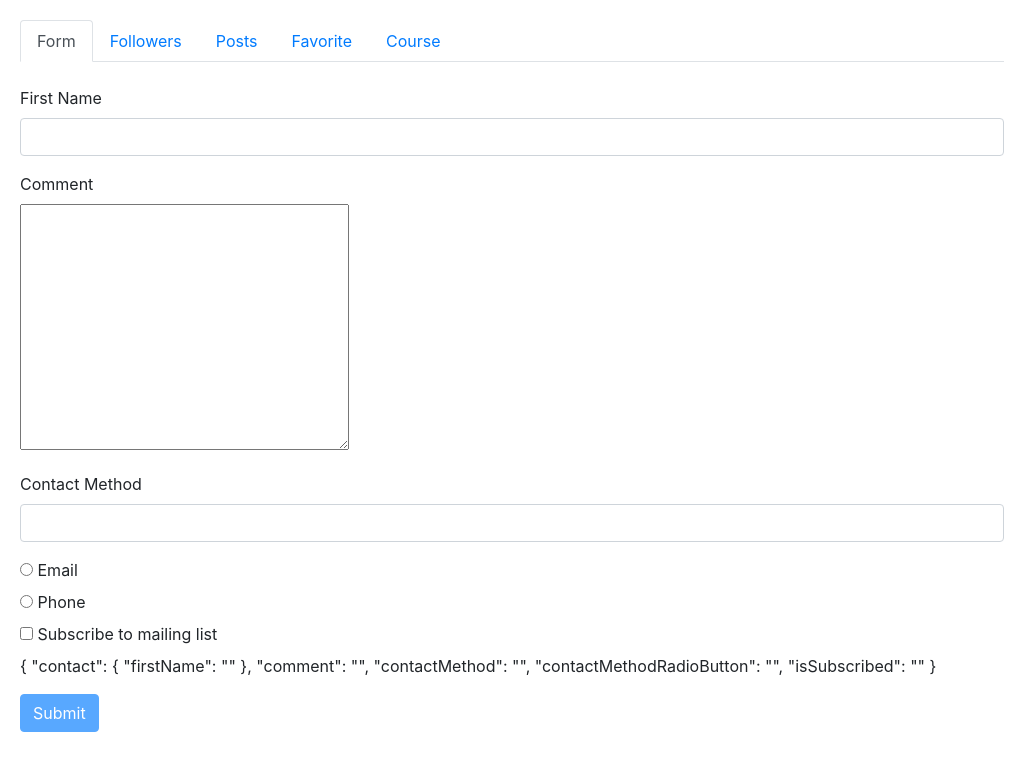
Test: Form Tests Suite › should fill all form details
Type "Cypress" into the field named "firstName". click: (512, 137)
box: [20, 118, 1004, 156]
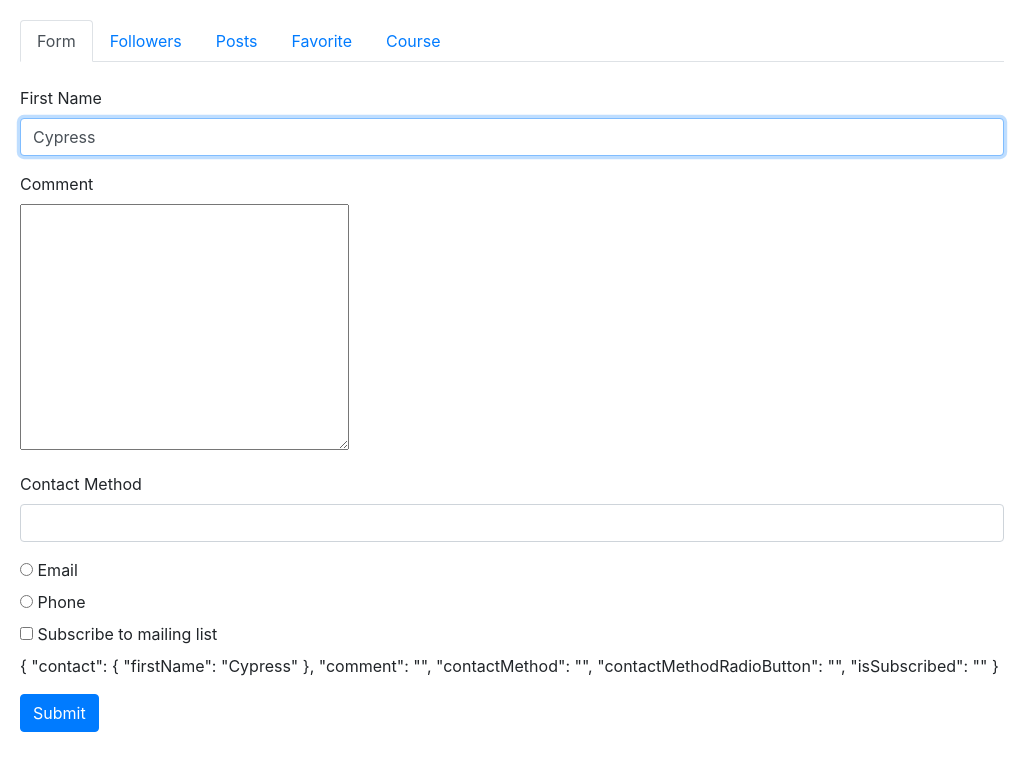
Type "This is a comment" into the text box with id "comment". click: (185, 327)
box: [20, 204, 349, 450]
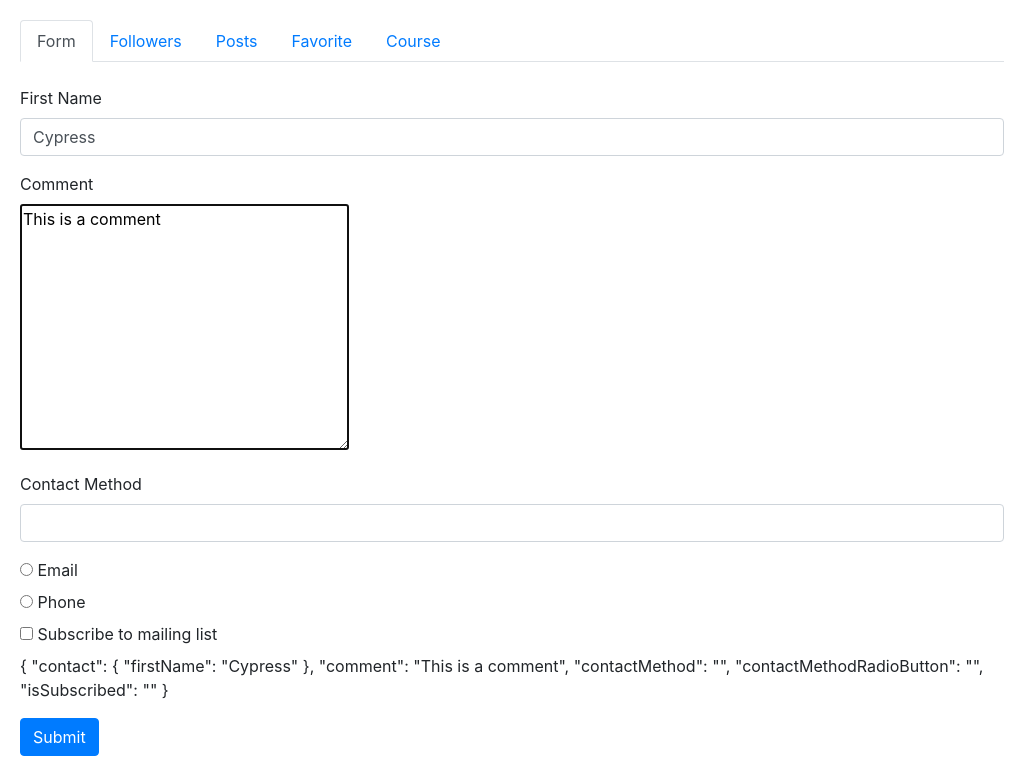
Select "Phone" in the dropdown with id "contactMethod". click: (512, 523)
box: [20, 504, 1004, 542]
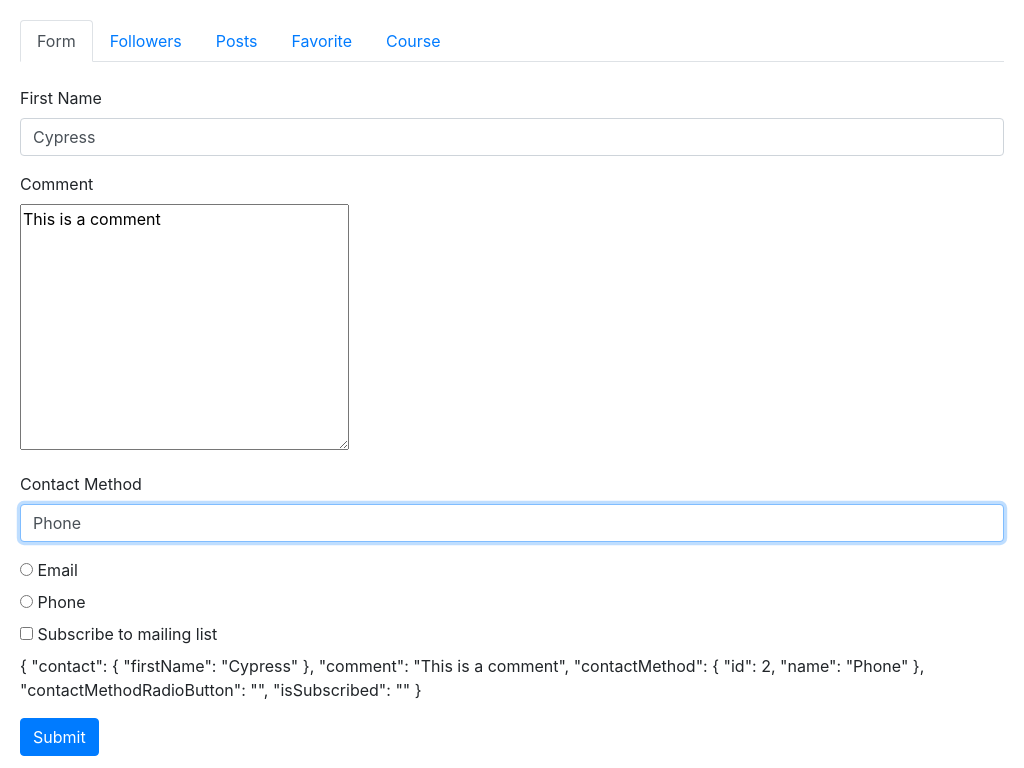
Check the radio button next to "Email". click: (27, 570)
box: [20, 563, 33, 576]
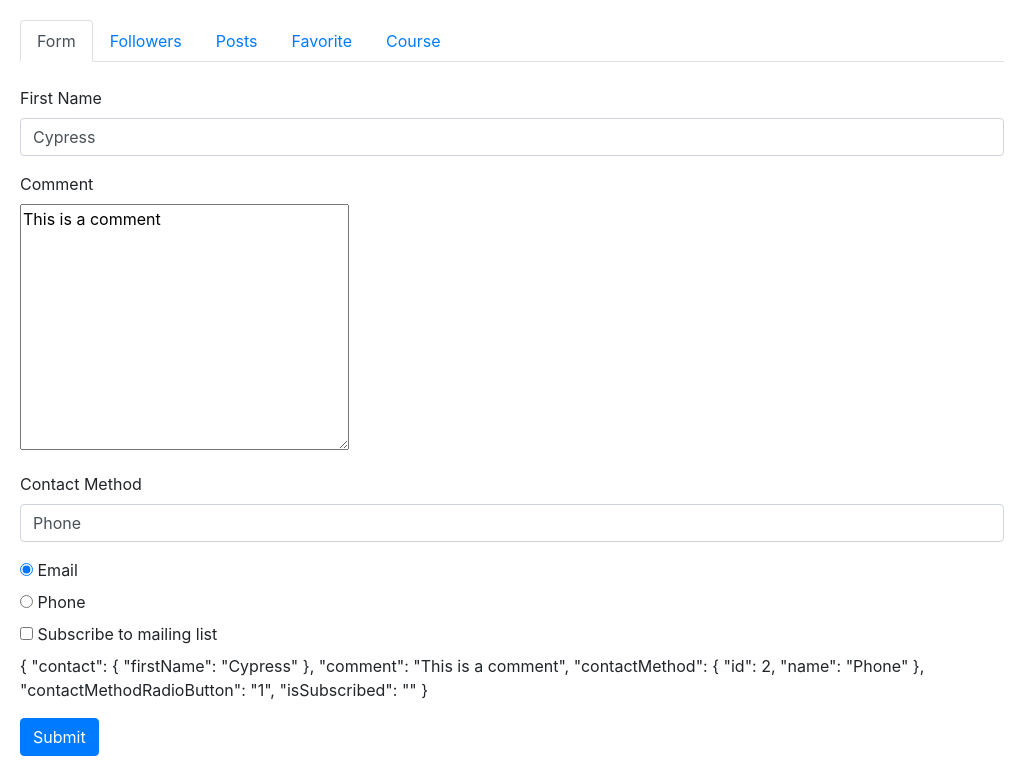
Check the checkbox. click: (27, 634)
box: [20, 627, 33, 640]
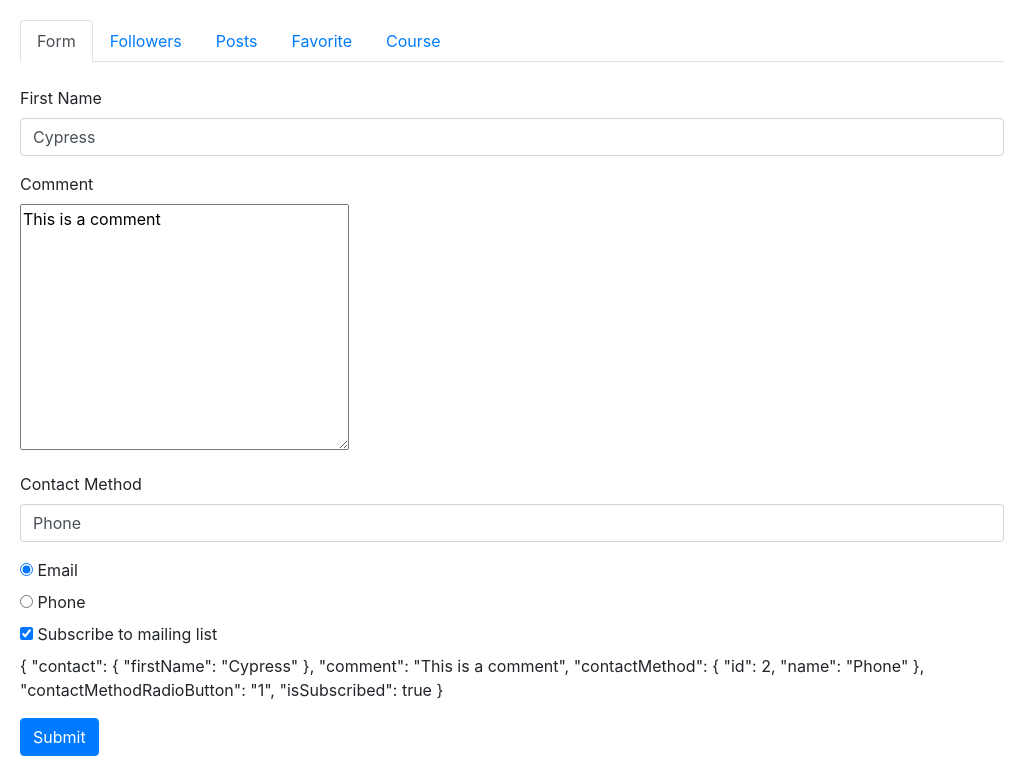
Check: the text "\"isSubscribed\": true" is shown, box [20, 654, 1004, 702]
